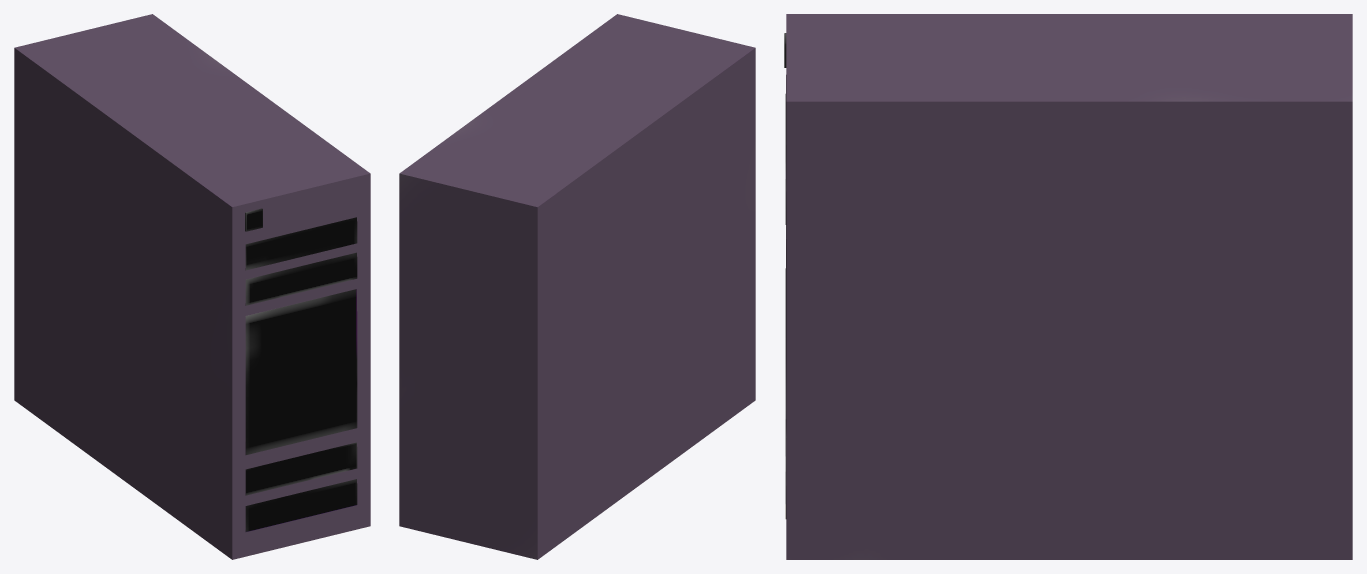
File: PC exp resend.fbx
The picture shows the model from 3 angles, left to right: view 1: azimuth 30°, elevation 25°; view 2: azimuth 150°, elevation 25°; view 3: azimuth 270°, elevation 25°; orthographic projection. The views are drawn at different scales.
Visible parts, largest first — view 1: Box037; view 2: Box037; view 3: Box037.
Boxes of the visible parts, <box> form: Box037: <box>14,14,370,559</box>; Box037: <box>399,14,755,559</box>; Box037: <box>784,14,1352,559</box>.
Bounding box in the file's own units: 4.92 × 12.01 × 13.5.
